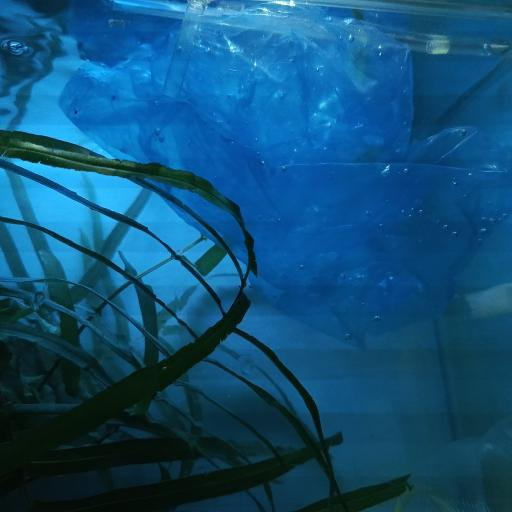plastic_bag: (59, 1, 512, 344)
plastic_bottle: (393, 414, 512, 512)
plastic_straw: (106, 0, 512, 59), (160, 0, 206, 97)
